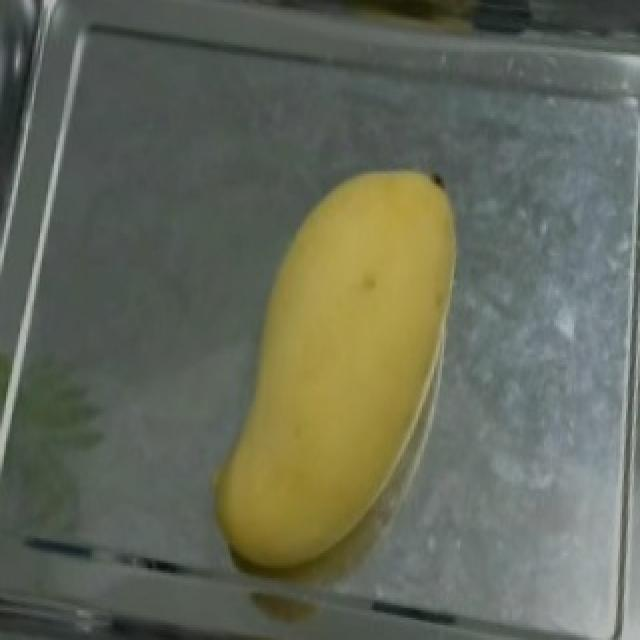fruit: (262, 141, 476, 541)
